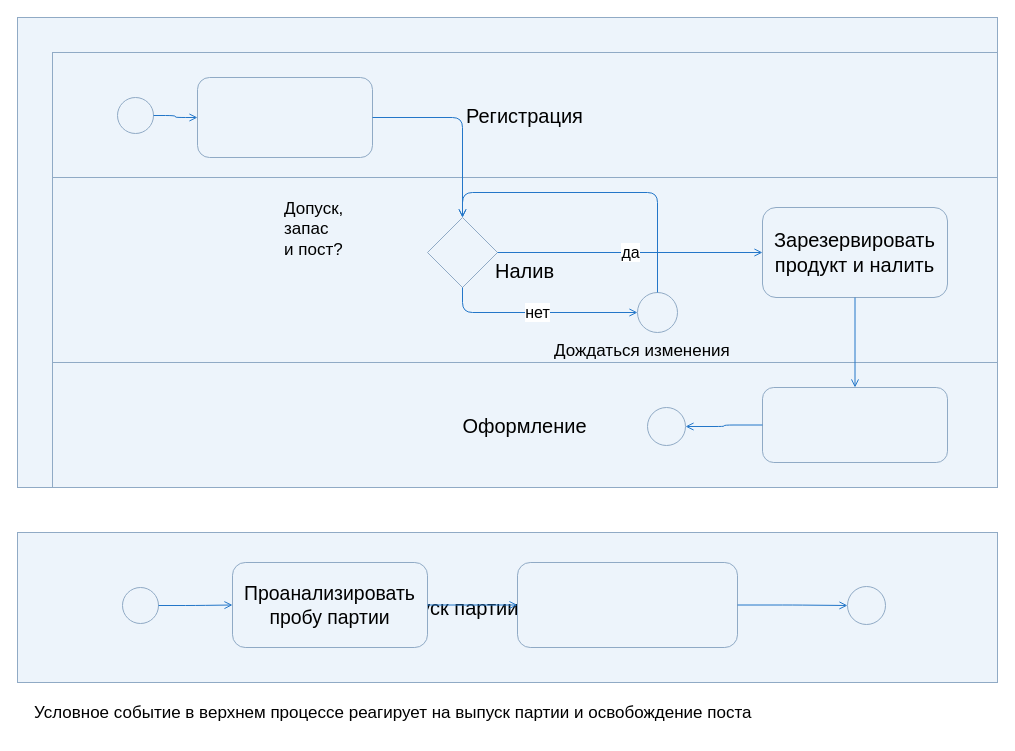
Some shapes in this 1015 by 751 pixel diagram are drawn without their labels. The centre of each missing label's shape, as x and y in pixels:
Зарегистрировать машину: (x=284, y=117)
Проверить массу оформить выезд: (x=855, y=424)
Разрешить отгрузку партии: (x=627, y=605)
